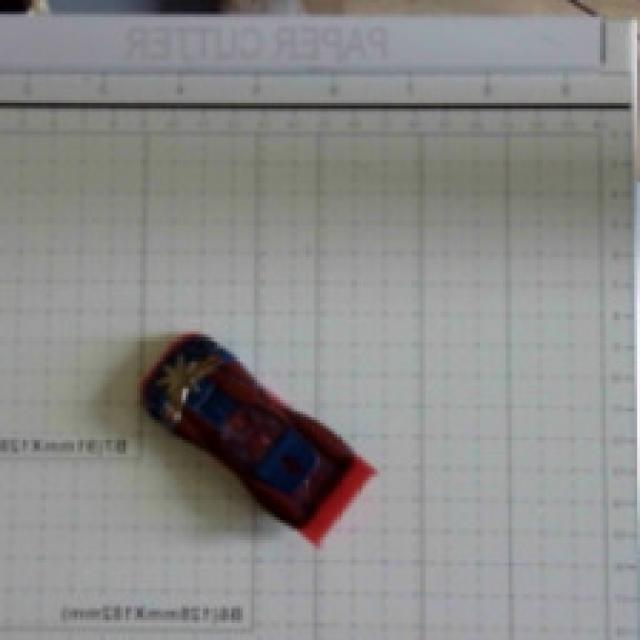Red Car: (109, 300, 432, 567)
